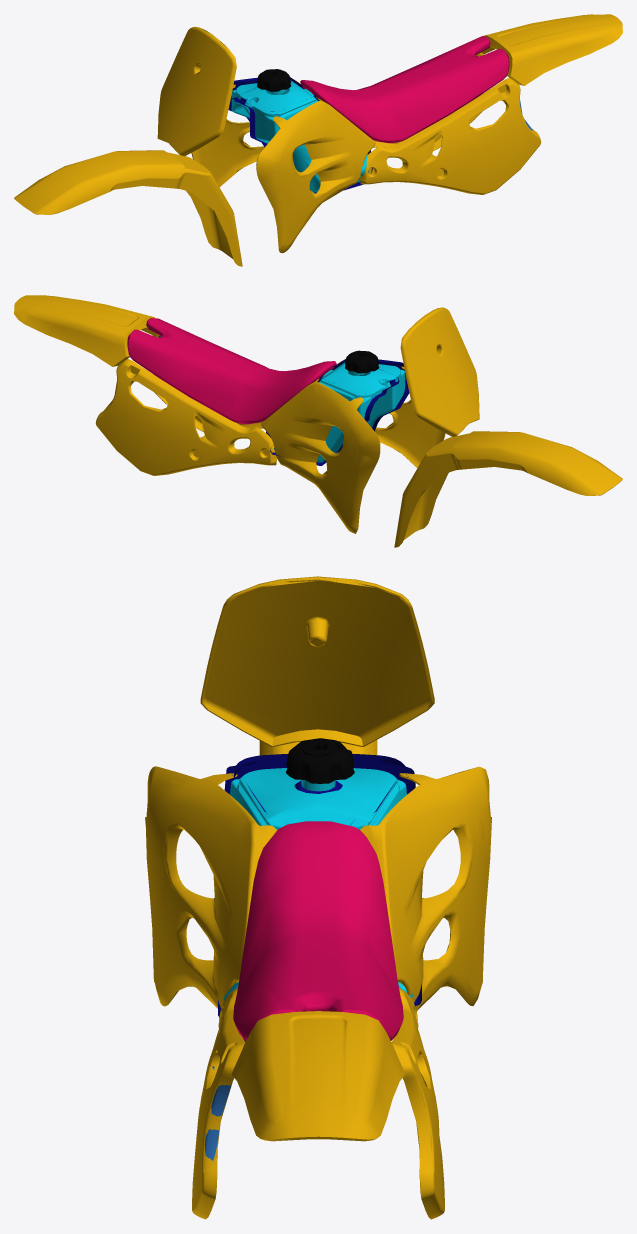
Rendered from Body Plates Origin.fbx.
3 views of the same model, one above another, from view 1: azimuth 30°, elevation 25°; view 2: azimuth 150°, elevation 25°; view 3: azimuth 270°, elevation 25° (orthographic). The views are drawn at different scales.
Visible parts, largest first — view 1: Body Plate 3, Body Plate, Body Plate 1, Body Plate 7, Body Plate 6, Body Plate 5, Body Plate 8, Body Plate 4, 724; view 2: Body Plate 2, Body Plate, Body Plate 4, Body Plate 7, Body Plate 6, Body Plate 5, Body Plate 8, Body Plate 1, 724; view 3: Body Plate 6, Body Plate, Body Plate 1, Body Plate 4, Body Plate 5, Body Plate 8, Body Plate 3, Body Plate 2, 724.
Part boxes in pixels (box(x1,y1,x2,y2)): Body Plate 3: box(360, 78, 541, 194); Body Plate: box(300, 36, 509, 143); Body Plate 1: box(256, 98, 375, 253); Body Plate 7: box(14, 150, 242, 266); Body Plate 6: box(157, 26, 236, 156); Body Plate 5: box(477, 14, 622, 85); Body Plate 8: box(231, 80, 368, 192); Body Plate 4: box(191, 79, 300, 187); 724: box(228, 69, 372, 193); Body Plate 2: box(95, 359, 276, 475); Body Plate: box(127, 318, 336, 424); Body Plate 4: box(261, 379, 380, 533); Body Plate 7: box(394, 431, 622, 547); Body Plate 6: box(400, 307, 479, 436); Body Plate 5: box(14, 295, 159, 366); Body Plate 8: box(274, 362, 405, 462); Body Plate 1: box(337, 360, 445, 467); 724: box(265, 350, 409, 465); Body Plate 6: box(200, 576, 434, 746); Body Plate: box(233, 821, 403, 1040); Body Plate 1: box(145, 766, 276, 1008); Body Plate 4: box(360, 766, 491, 1011); Body Plate 5: box(231, 1011, 405, 1141); Body Plate 8: box(223, 768, 413, 1002); Body Plate 3: box(192, 987, 245, 1219); Body Plate 2: box(391, 987, 444, 1219); 724: box(218, 738, 421, 1041).
Size of the model in its own units: 7.01 by 2.57 by 1.77.
